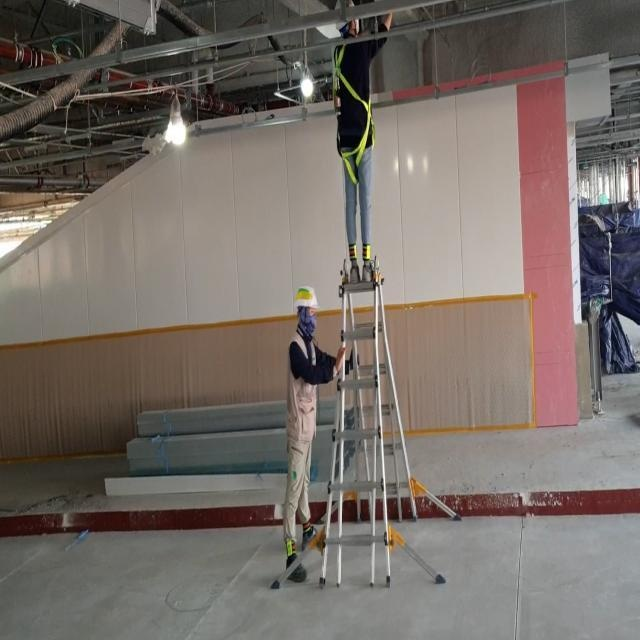Arnes_seguridad: (334, 42, 375, 187)
